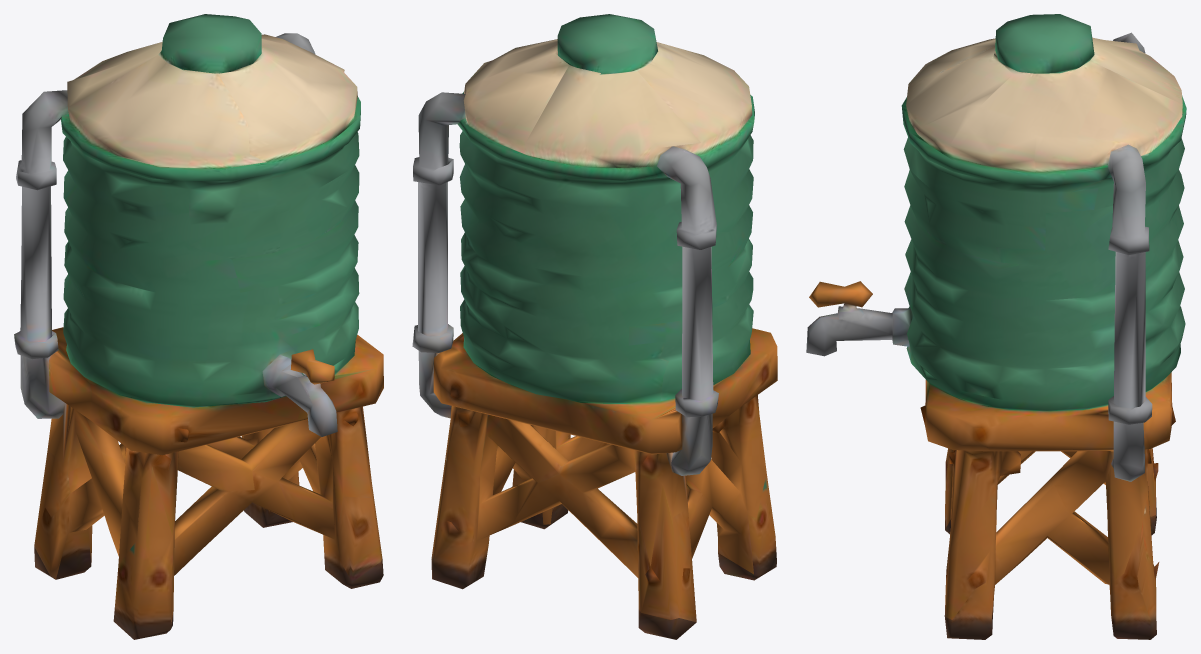
Rendered from watertank.glb.
3 views of the same model, side by side, from view 1: azimuth 30°, elevation 25°; view 2: azimuth 150°, elevation 25°; view 3: azimuth 270°, elevation 25° (orthographic).
Parts seen in each view (by area): view 1: model; view 2: model; view 3: model.
Boxes of the visible parts, x1,y1,x2,y2 form: model: (14,14,383,639); model: (412,14,777,639); model: (806,14,1186,639).
Size of the model in its own units: 1.1 by 1.9 by 1.18.
Materials: 1 (1 with a texture image).
